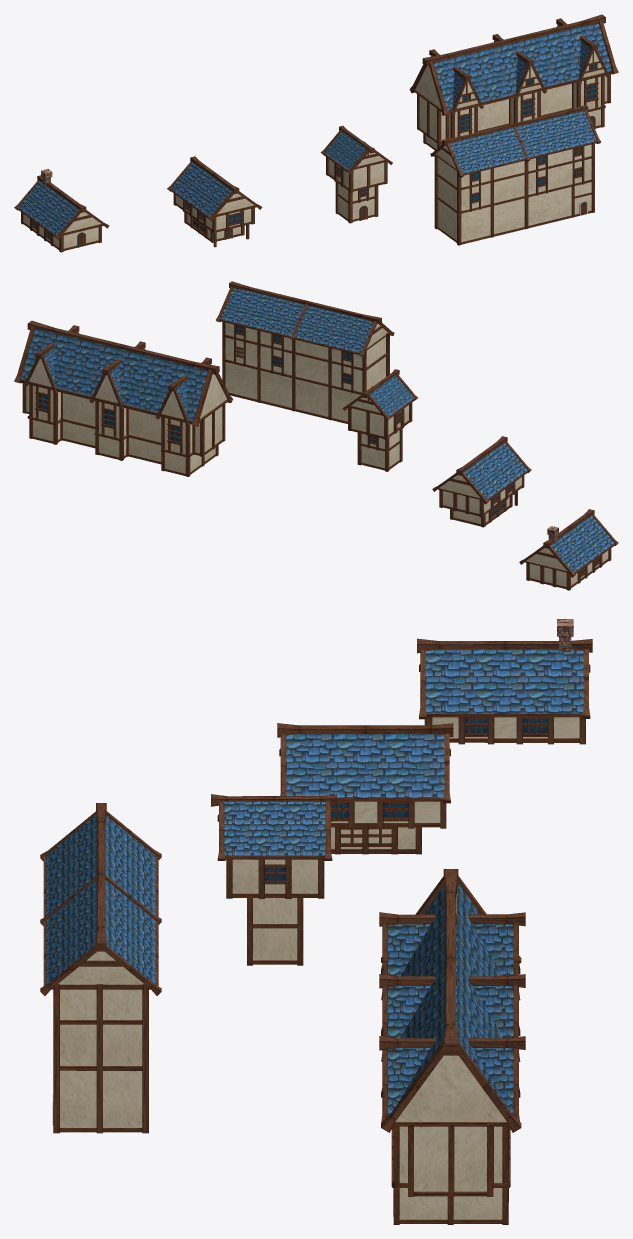
File: cassassasafbx.fbx
3 views of the same model, one above another, from view 1: azimuth 30°, elevation 25°; view 2: azimuth 150°, elevation 25°; view 3: azimuth 270°, elevation 25° (orthographic). The views are drawn at different scales.
Parts seen in each view (by area): view 1: casa4, casa5, casa2, casa3, Casa1; view 2: casa4, casa5, casa2, casa3, Casa1; view 3: casa4, casa5, casa2, Casa1, casa3.
Boxes of the visible parts, box(x1,y1,x2,y2) form: casa4: box(409, 14, 618, 150); casa5: box(430, 105, 600, 245); casa2: box(167, 156, 262, 247); casa3: box(320, 125, 392, 223); Casa1: box(14, 169, 109, 252); casa4: box(14, 320, 232, 476); casa5: box(216, 281, 394, 423); casa2: box(432, 436, 531, 527); casa3: box(342, 369, 418, 471); Casa1: box(519, 509, 618, 590); casa4: box(379, 869, 525, 1224); casa5: box(40, 803, 161, 1133); casa2: box(277, 723, 453, 854); Casa1: box(417, 619, 592, 744); casa3: box(211, 794, 336, 965).
Size of the model in its own units: 7457 by 1268 by 3213.
